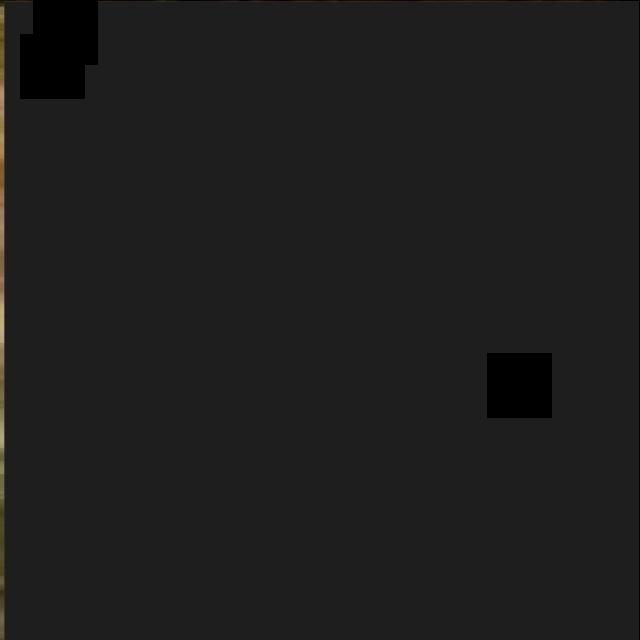fire: (4, 1, 639, 640)
